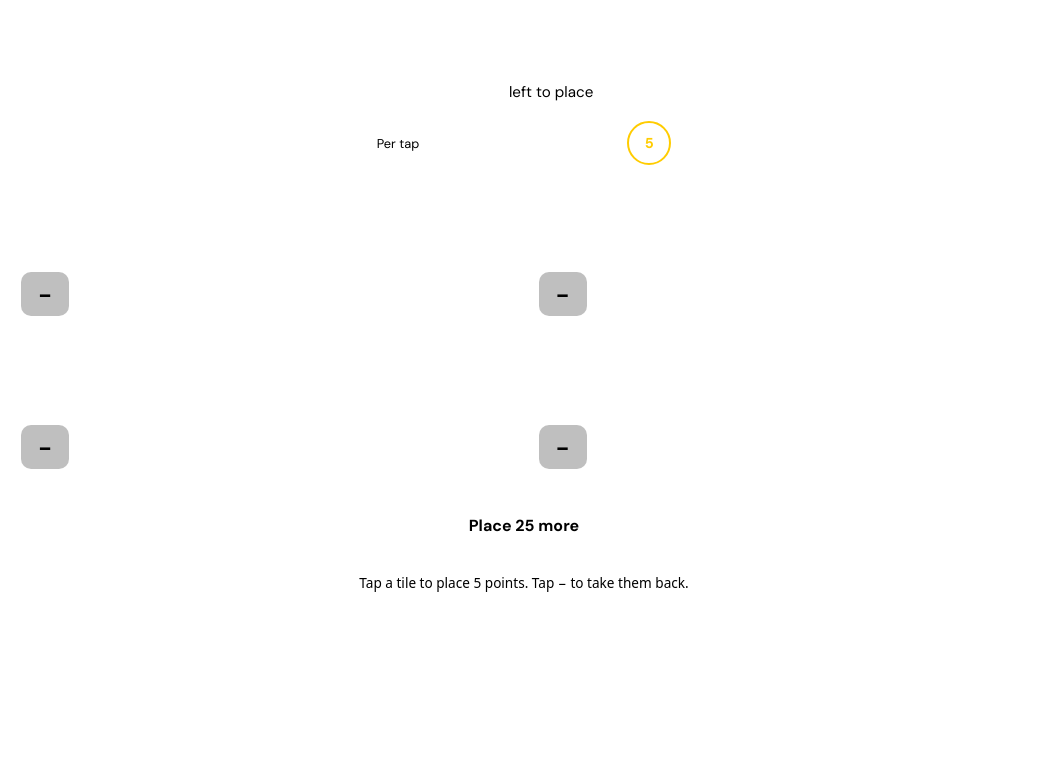
Test: <DropBoard> › each tap places 5 points and − takes them back
Step 1. Click the button with aria-label "Add 5 points to Tile a" → (265, 254), box [13,184,517,324]
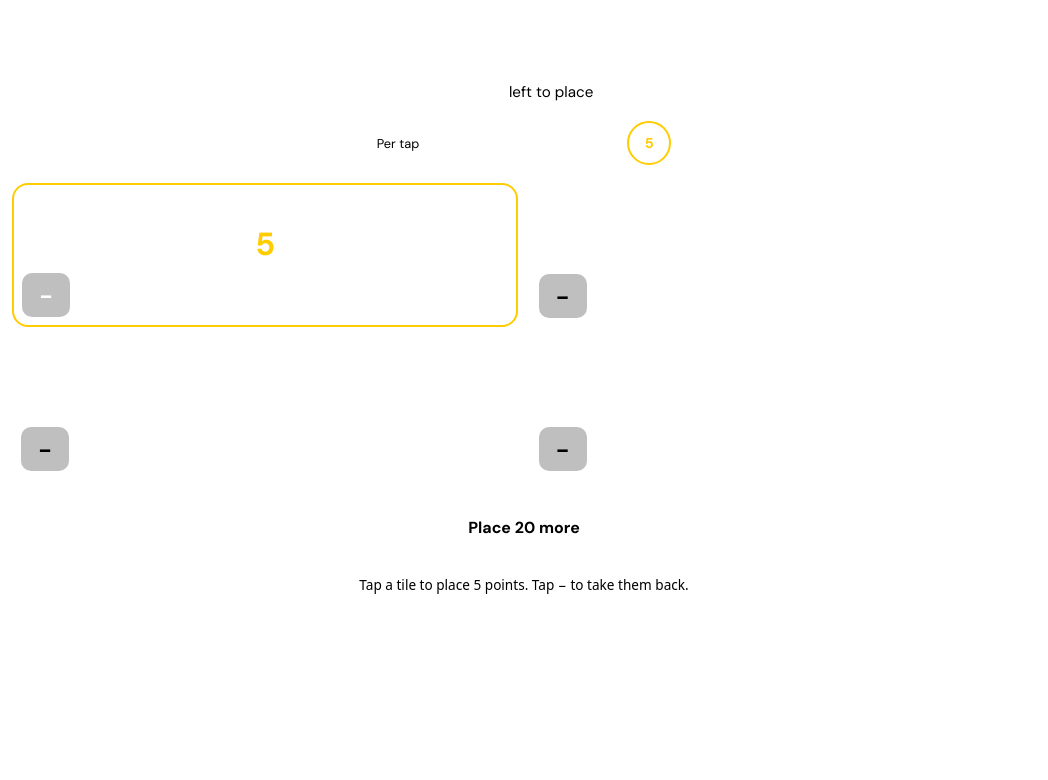
Step 2. Click the button with aria-label "Add 5 points to Tile a" → (265, 255), box [14,185,516,325]
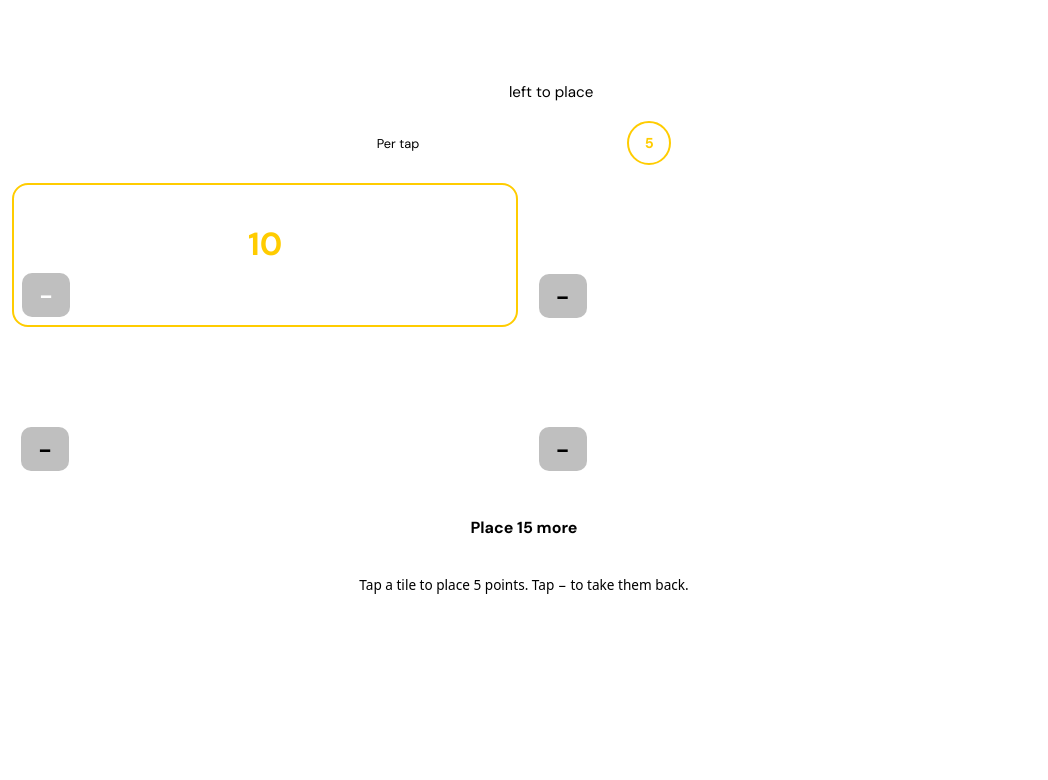
Step 3. Click the button "BTile b 0" → (783, 254), box [531,184,1035,324]
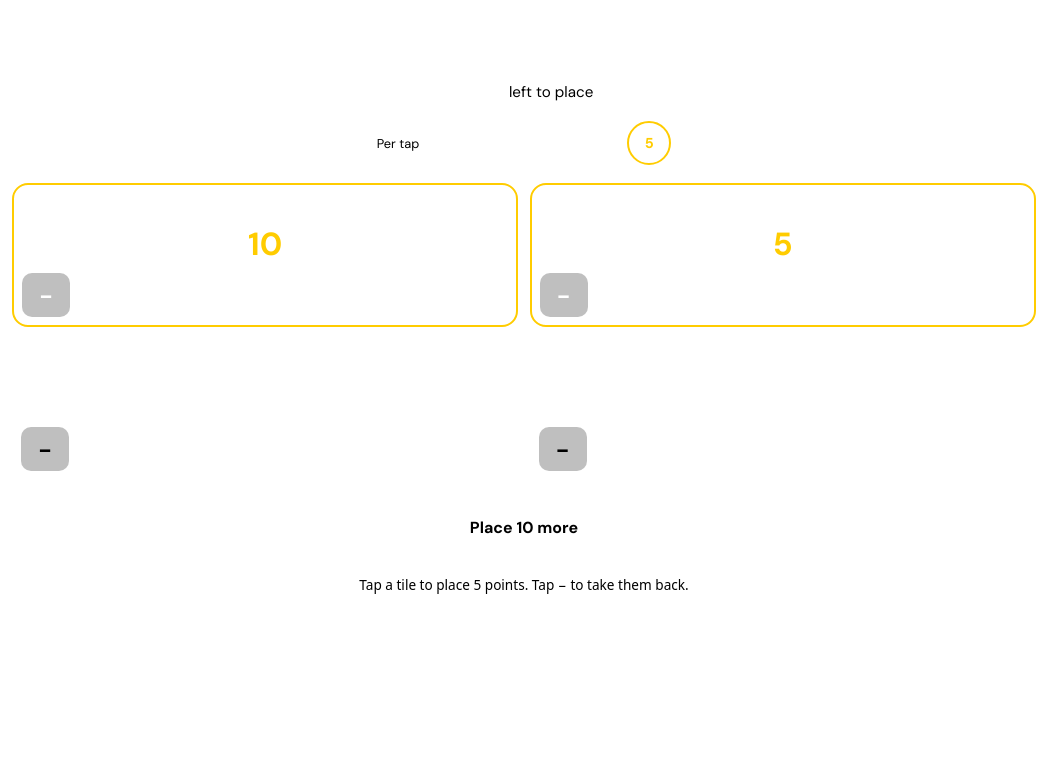
expect the button "Place 10 more" is shown: met, box [12,498,1036,558]
Step 4. Click the 1st button "−" → (46, 295), box [22,273,70,317]
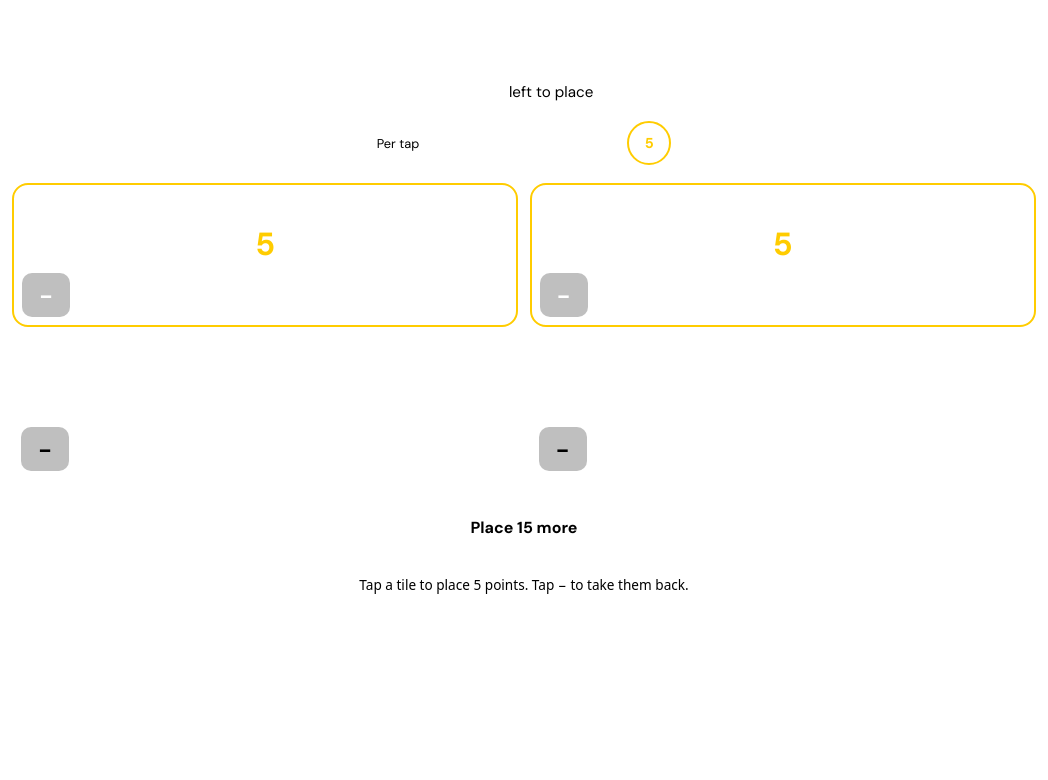
expect the button "Place 15 more" is shown: met, box [12,498,1036,558]
